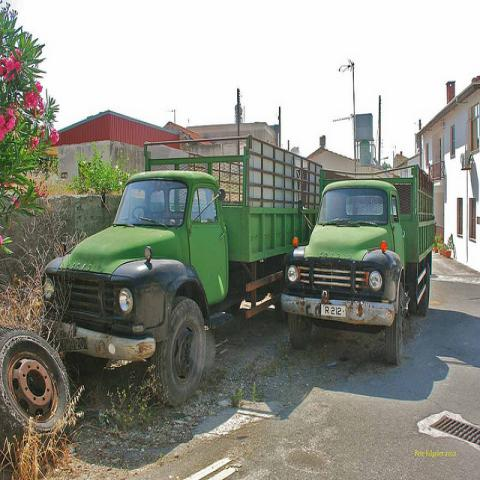truck: (44, 138, 317, 402), (281, 163, 437, 365)
